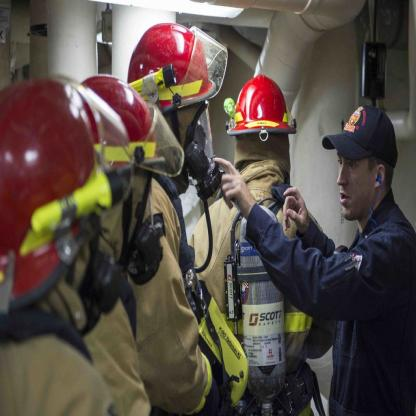Helmet: (0, 77, 114, 321), (125, 22, 228, 161), (81, 72, 185, 178), (58, 71, 132, 176), (225, 75, 298, 143)
